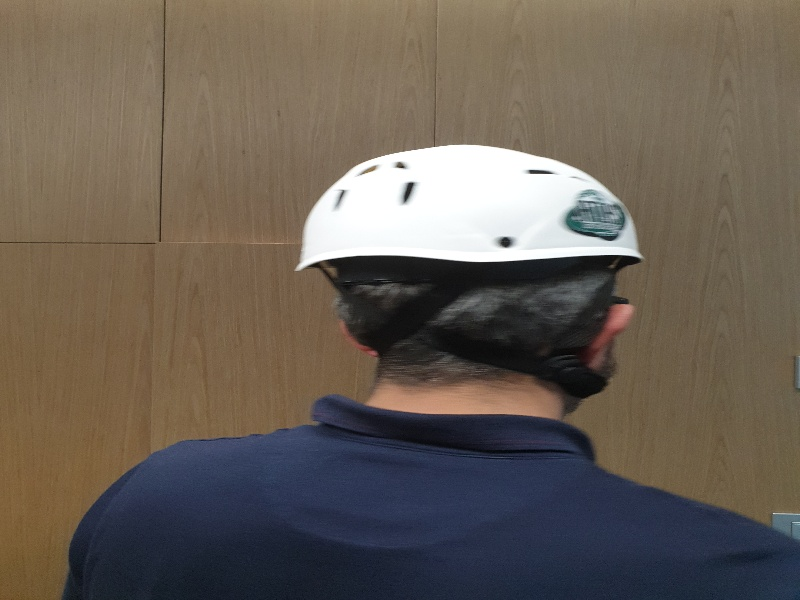Baret: (301, 144, 642, 267)
